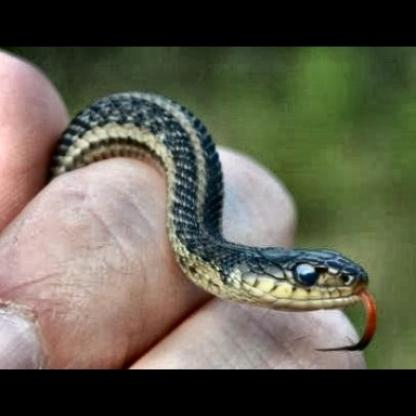Snake: (72, 88, 377, 352)
